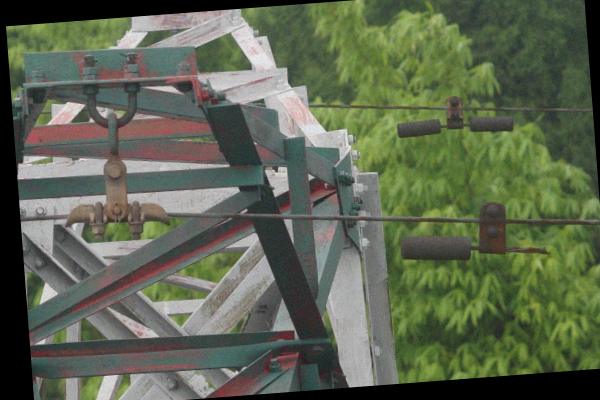damper: (393, 92, 516, 139)
damper_defect: (395, 199, 553, 264)
